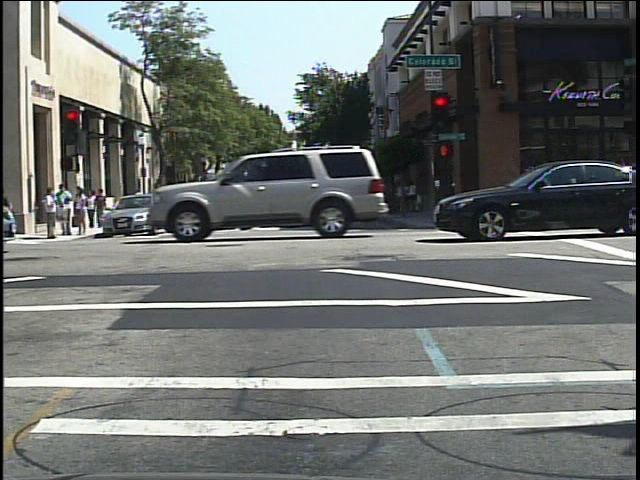person: (177, 181, 194, 217), (86, 188, 98, 230), (132, 185, 147, 215)
